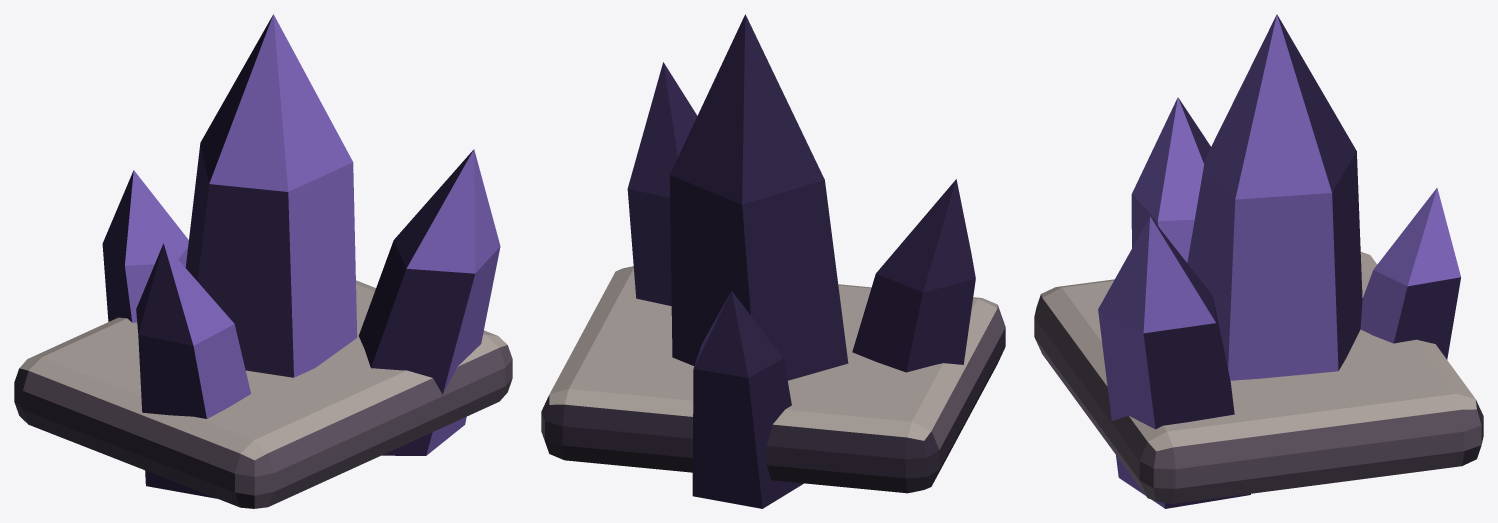
Rendered from ObsidianChunk.fbx.
3 views of the same model, side by side, from view 1: azimuth 30°, elevation 25°; view 2: azimuth 150°, elevation 25°; view 3: azimuth 270°, elevation 25° (orthographic). The views are drawn at different scales.
Parts seen in each view (by area): view 1: ObsidianChunk; view 2: ObsidianChunk; view 3: ObsidianChunk.
Boxes of the visible parts, x1,y1,x2,y2 form: ObsidianChunk: (14,14,512,508); ObsidianChunk: (541,14,1005,508); ObsidianChunk: (1034,14,1483,508).
Bounding box in the file's own units: 1.35 × 1.3 × 1.25.
1 material, 1 textured.
